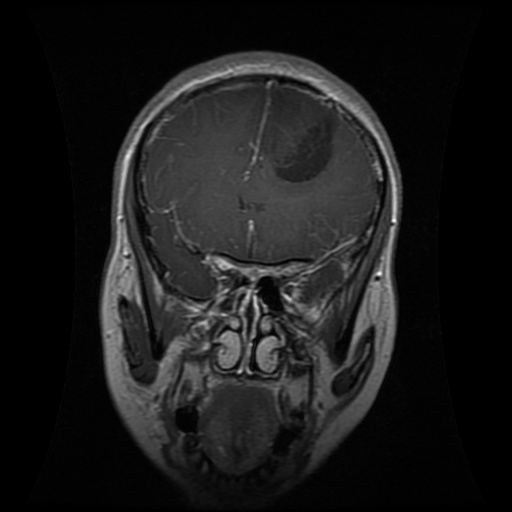glioma: (271, 107, 340, 184)
